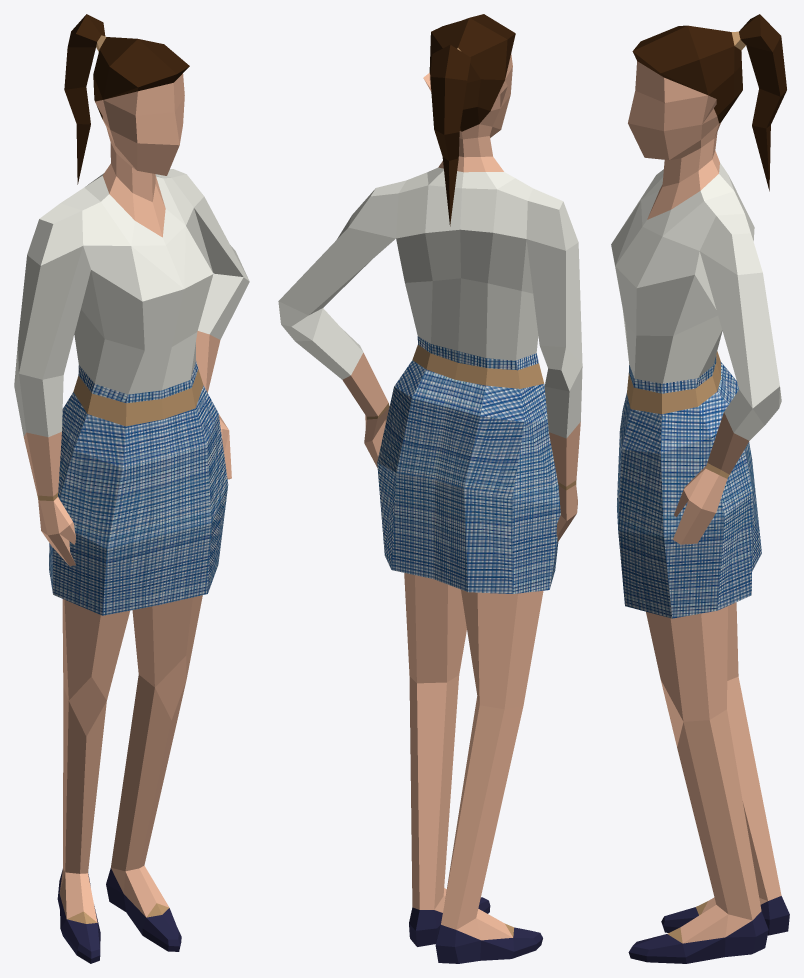
Rendered from SpringWomanB.008.glb.
3 renders of one model, left to right at view 1: azimuth 30°, elevation 25°; view 2: azimuth 150°, elevation 25°; view 3: azimuth 270°, elevation 25°, orthographic. The views are drawn at different scales.
Parts seen in each view (by area): view 1: SpringWomanB.009; view 2: SpringWomanB.009; view 3: SpringWomanB.009.
Part boxes in pixels (left/top/right/bottom): SpringWomanB.009: left=14, top=14, right=249, bottom=963; SpringWomanB.009: left=278, top=14, right=582, bottom=963; SpringWomanB.009: left=611, top=14, right=789, bottom=963.
Size of the model in its own units: 0.5181 by 1.74 by 0.3009.
1 material, 1 textured.
